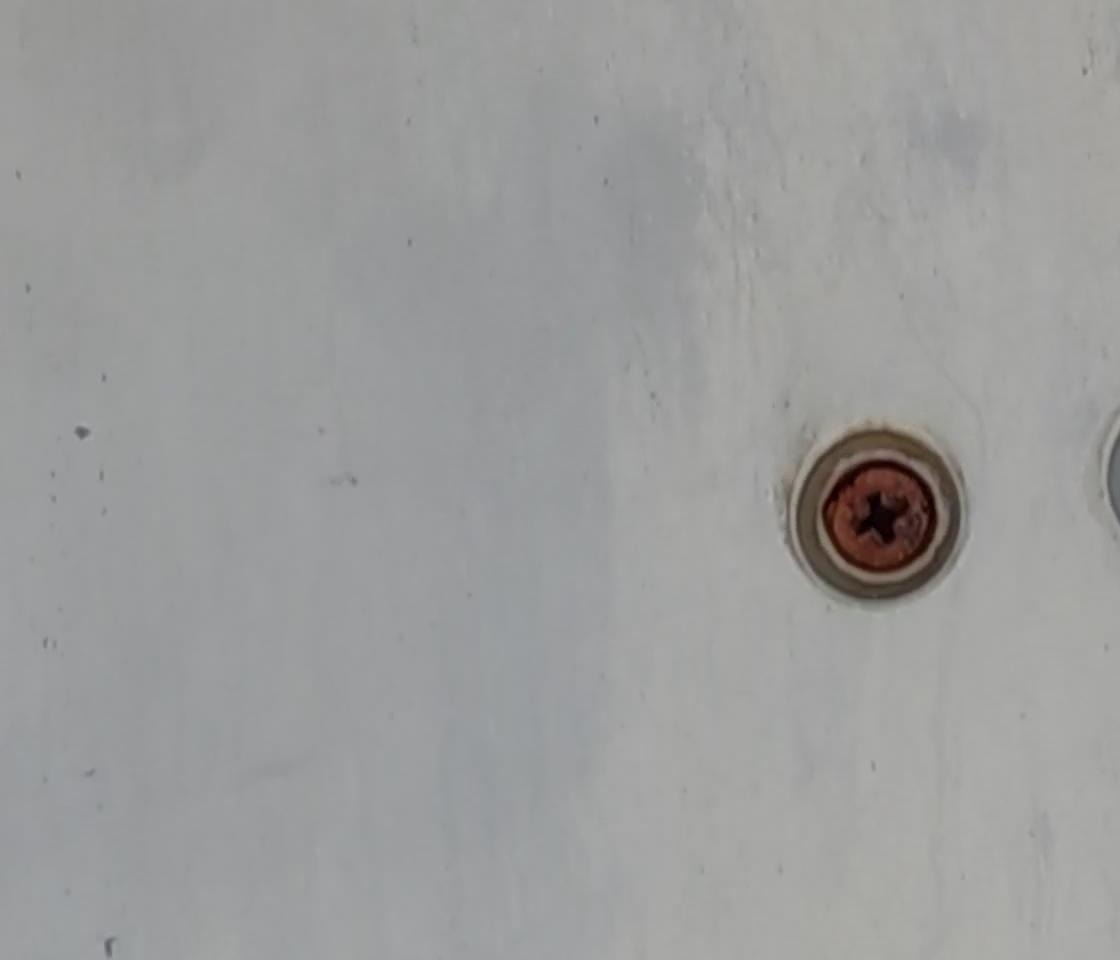rivet_damage: (771, 415, 970, 615)
